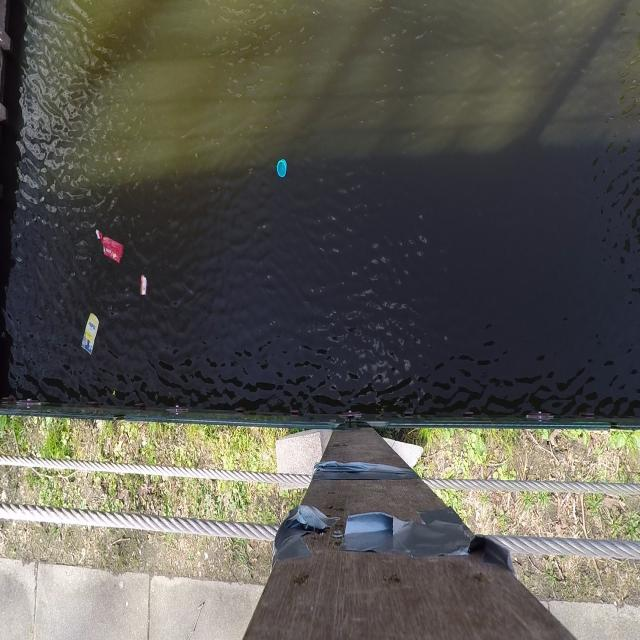Autre plastique: (92, 223, 127, 267), (80, 308, 101, 367), (277, 157, 291, 181)
